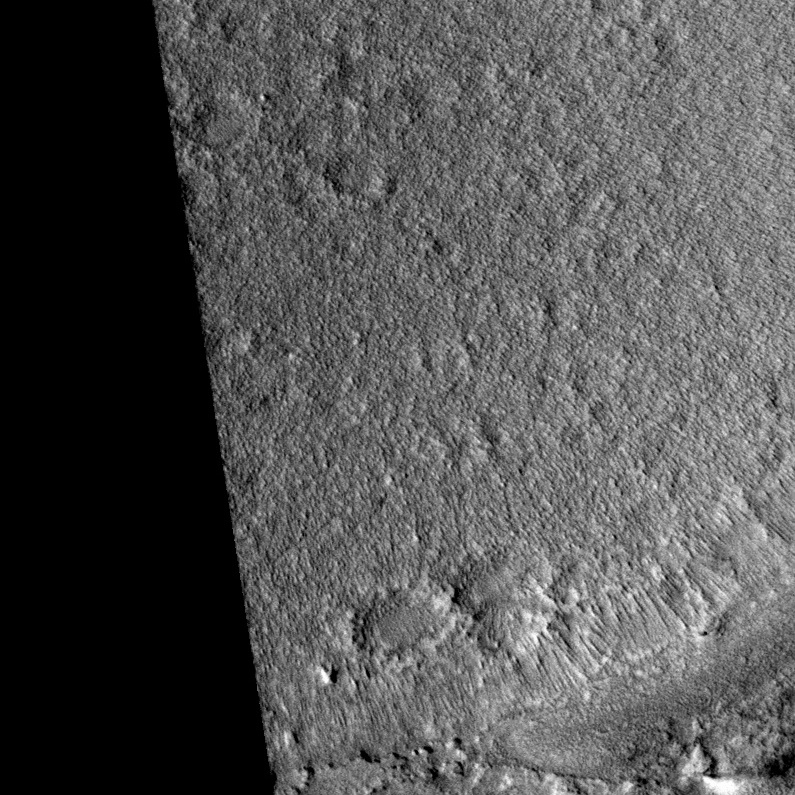dust_devil: (700, 745, 795, 795)
